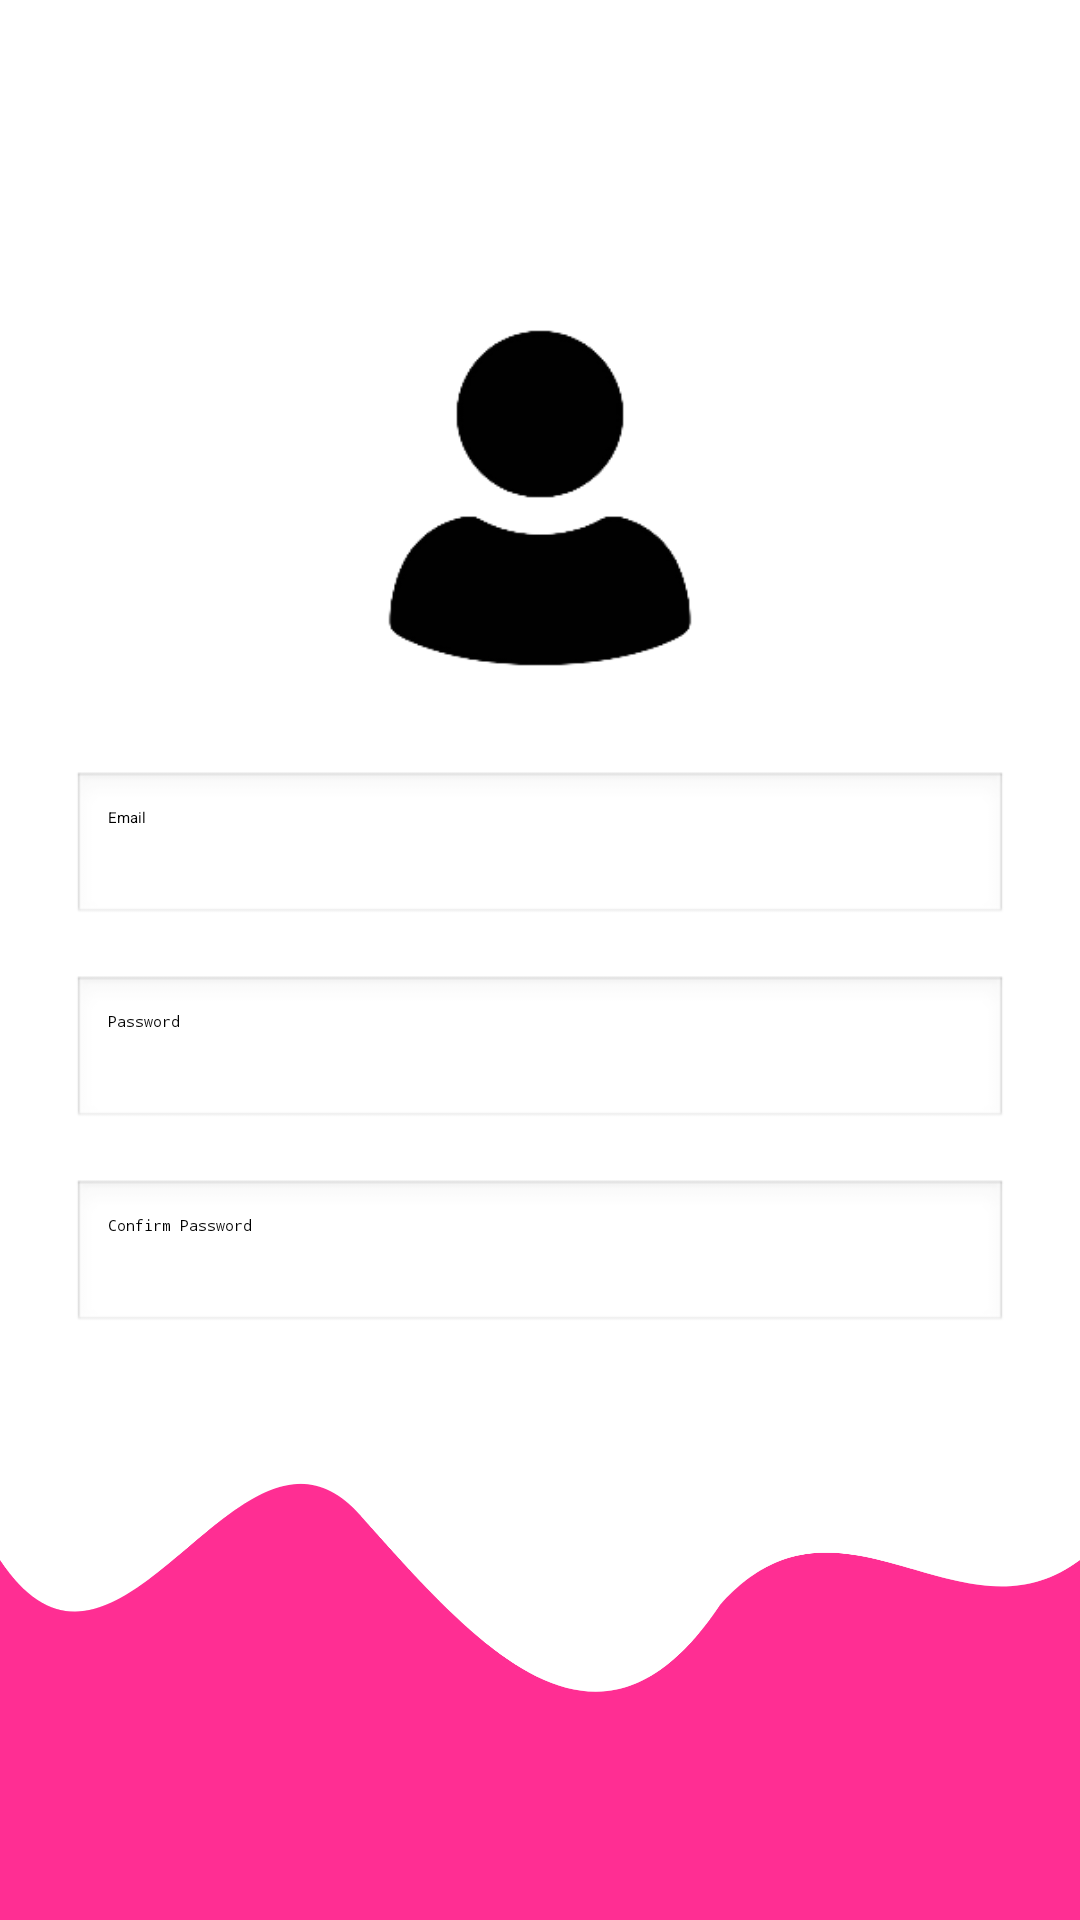

Screen size 1080px×1920px. Icon name, then its center in pixels as [x,y]:
Signup image: [540,498]
